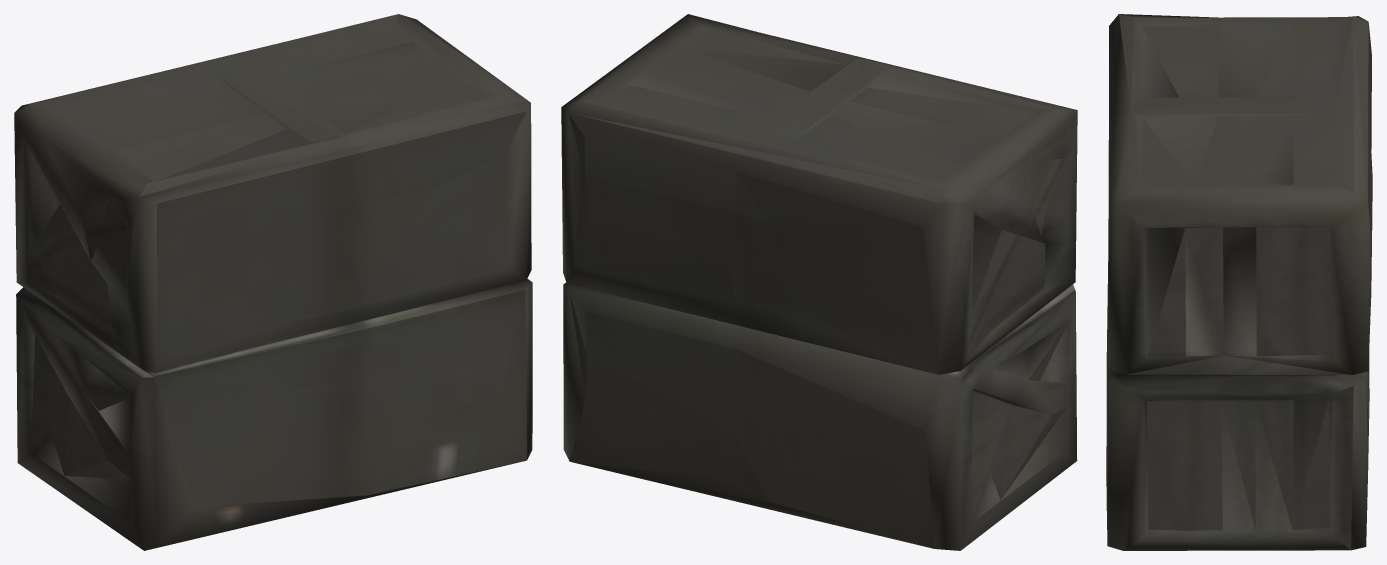
The picture shows the model from 3 angles, left to right: view 1: azimuth 30°, elevation 25°; view 2: azimuth 150°, elevation 25°; view 3: azimuth 270°, elevation 25°; orthographic projection.
Parts seen in each view (by area): view 1: tripo_node_ae94fd78.006; view 2: tripo_node_ae94fd78.006; view 3: tripo_node_ae94fd78.006.
Boxes of the visible parts, box(x1,y1,x2,y2) form: tripo_node_ae94fd78.006: box(14, 14, 532, 550); tripo_node_ae94fd78.006: box(561, 14, 1077, 550); tripo_node_ae94fd78.006: box(1106, 14, 1372, 550).
Bounding box in the file's own units: 6.89 × 5.84 × 3.99.
